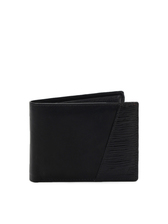other: (15, 88, 154, 199)
